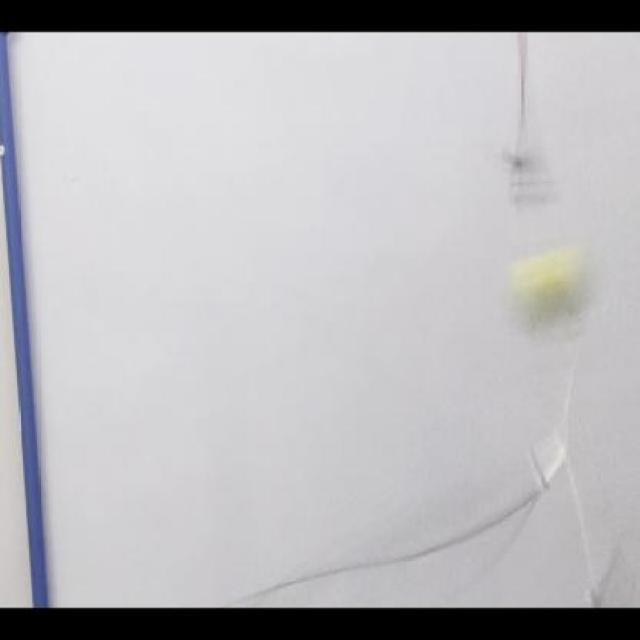baseball: (509, 241, 600, 325)
